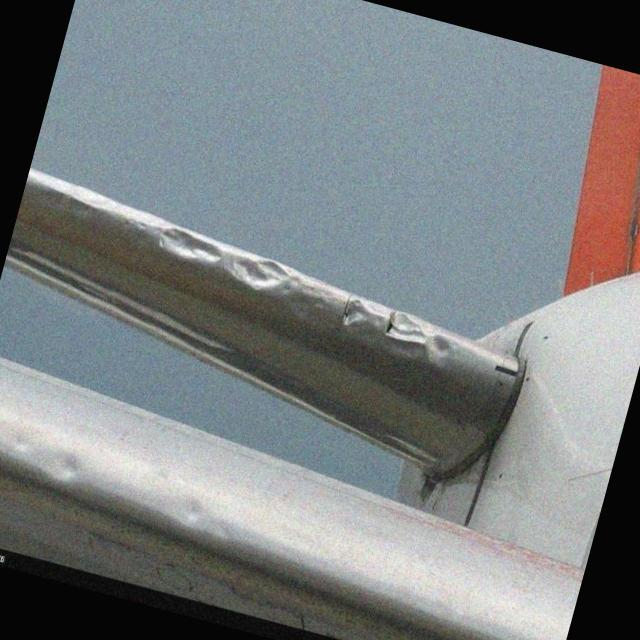dent: (138, 220, 466, 376), (0, 429, 252, 549)
